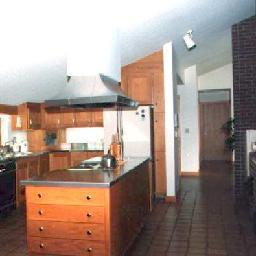Electrodomestico: (104, 108, 151, 154)
